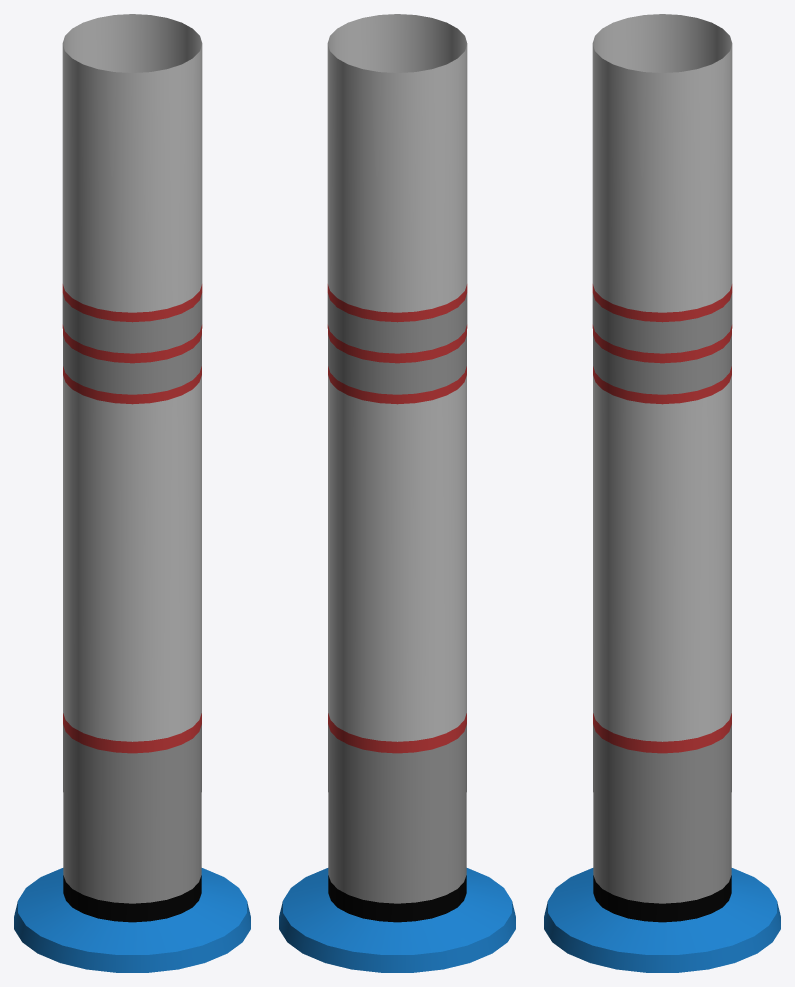
Rendered from LS_Stand_1.fbx.
3 renders of one model, left to right at view 1: azimuth 30°, elevation 25°; view 2: azimuth 150°, elevation 25°; view 3: azimuth 270°, elevation 25°, orthographic.
Visible parts, largest first — view 1: LS_Stand_1; view 2: LS_Stand_1; view 3: LS_Stand_1.
Part boxes in pixels (x1=…): LS_Stand_1: x1=14, y1=14, x2=250, y2=972; LS_Stand_1: x1=279, y1=14, x2=515, y2=972; LS_Stand_1: x1=544, y1=14, x2=780, y2=972.
Size of the model in its own units: 311 by 1274 by 311.
